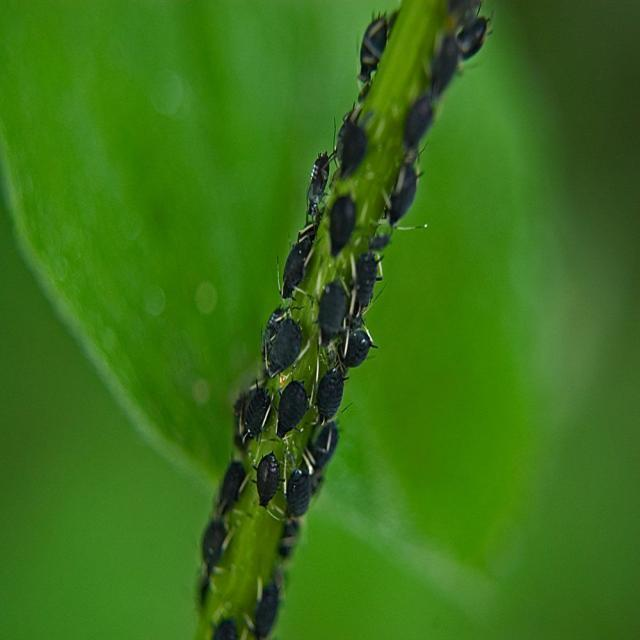Aphids: (152, 381, 390, 599), (32, 216, 256, 406), (137, 38, 317, 255), (354, 23, 417, 251)
